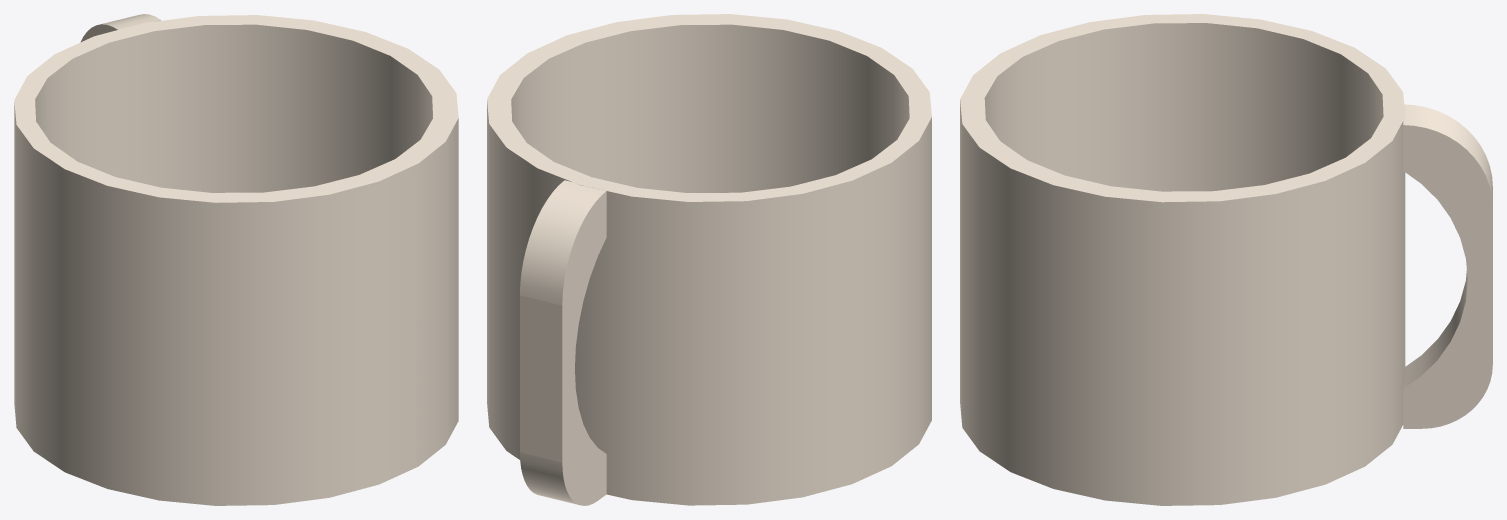
3 renders of one model, left to right at view 1: azimuth 30°, elevation 25°; view 2: azimuth 150°, elevation 25°; view 3: azimuth 270°, elevation 25°, orthographic.
Parts seen in each view (by area): view 1: mesh1_mesh1-geometry, mesh2_mesh2-geometry; view 2: mesh1_mesh1-geometry, mesh2_mesh2-geometry; view 3: mesh1_mesh1-geometry, mesh2_mesh2-geometry.
Boxes of the visible parts, x1,y1,x2,y2 form: mesh1_mesh1-geometry: [14, 15, 458, 505]; mesh2_mesh2-geometry: [80, 14, 160, 42]; mesh1_mesh1-geometry: [487, 14, 931, 505]; mesh2_mesh2-geometry: [520, 180, 606, 505]; mesh1_mesh1-geometry: [960, 14, 1405, 505]; mesh2_mesh2-geometry: [1403, 104, 1492, 428].
Bounding box in the file's own units: 0.5776 × 0.4347 × 0.691.
